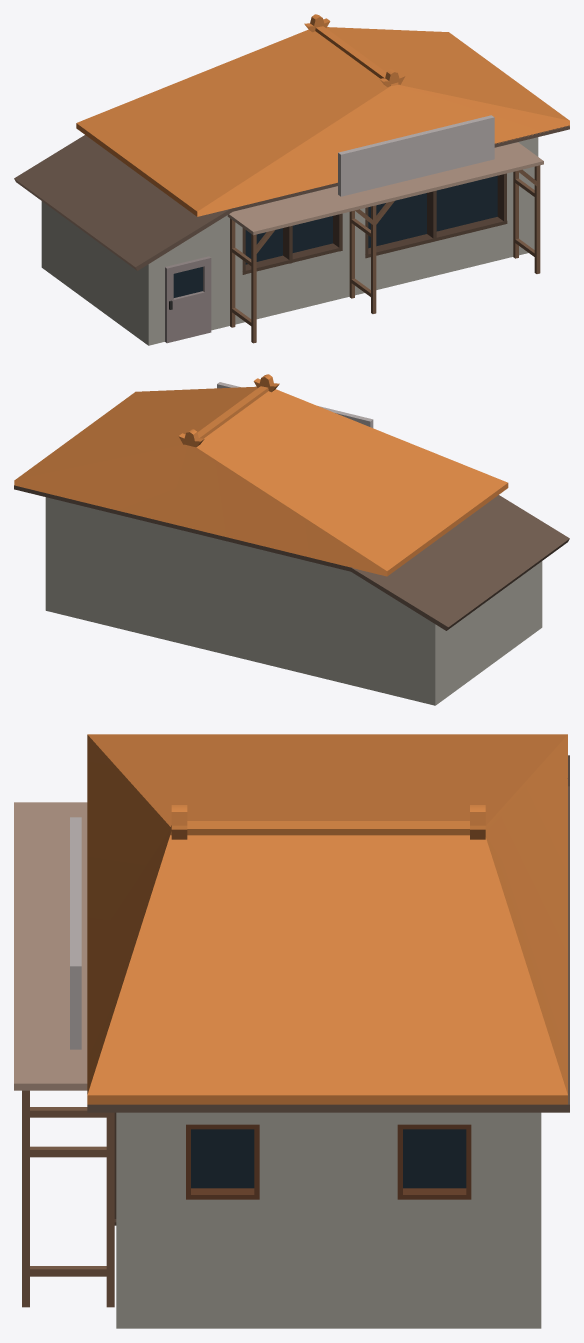
Rendered from CountryStore04.fbx.
3 renders of one model, top to bottom at view 1: azimuth 30°, elevation 25°; view 2: azimuth 150°, elevation 25°; view 3: azimuth 270°, elevation 25°, orthographic. The views are drawn at different scales.
Visible parts, largest first — view 1: CountryStore04; view 2: CountryStore04; view 3: CountryStore04.
Part boxes in pixels (bbox=[...]): CountryStore04: bbox=[14, 14, 569, 345]; CountryStore04: bbox=[14, 374, 569, 705]; CountryStore04: bbox=[14, 734, 569, 1328].
Size of the model in its own units: 186 by 104 by 82.03.
